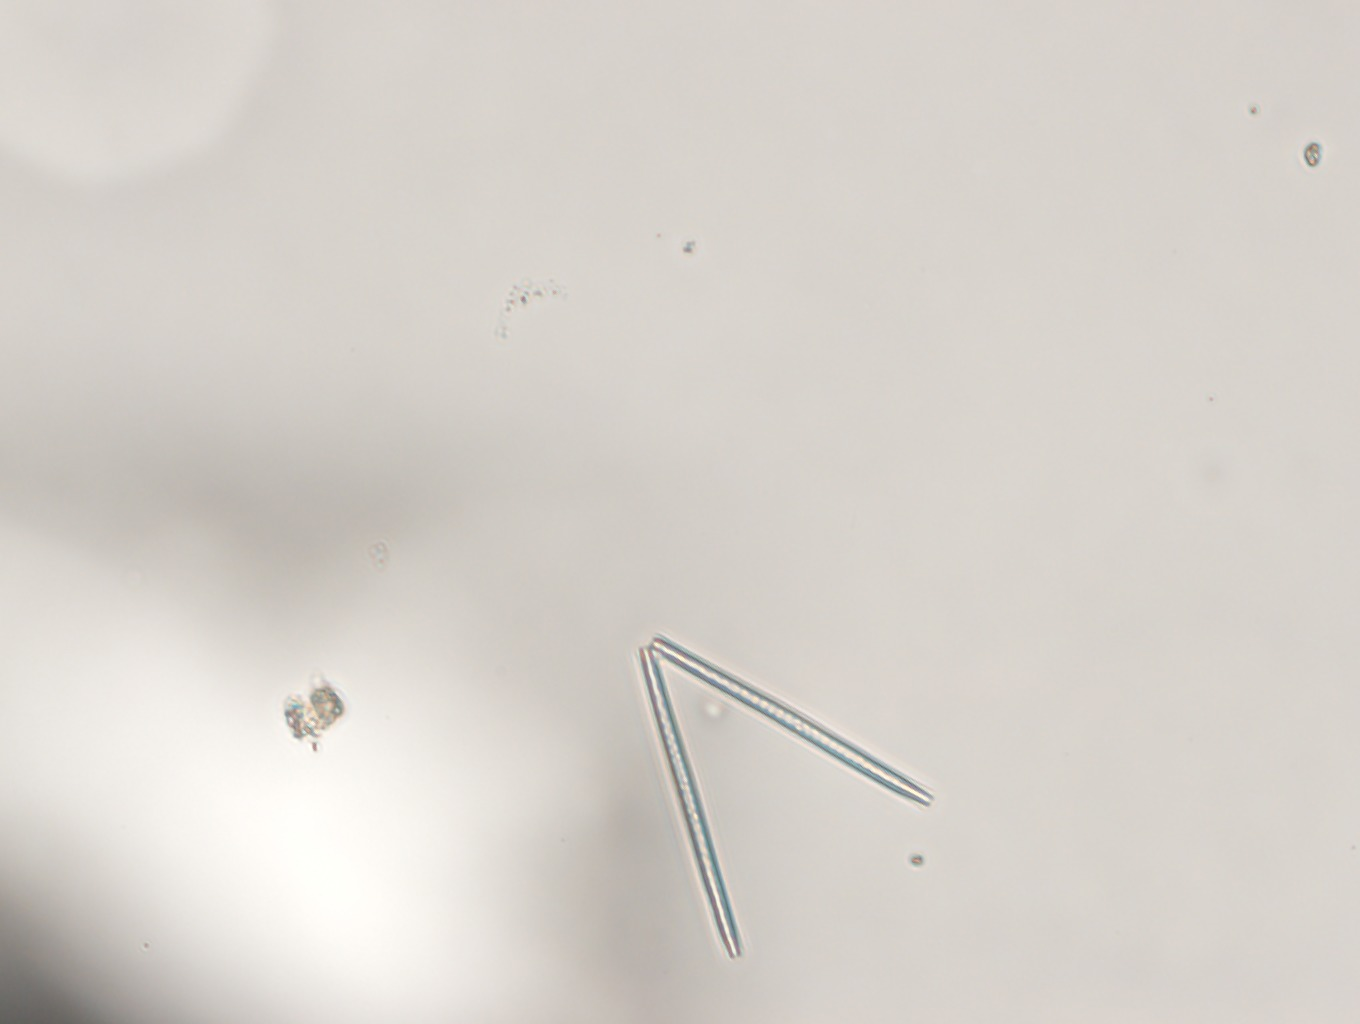thalassionema nitzschioides: (615, 620, 944, 969)
